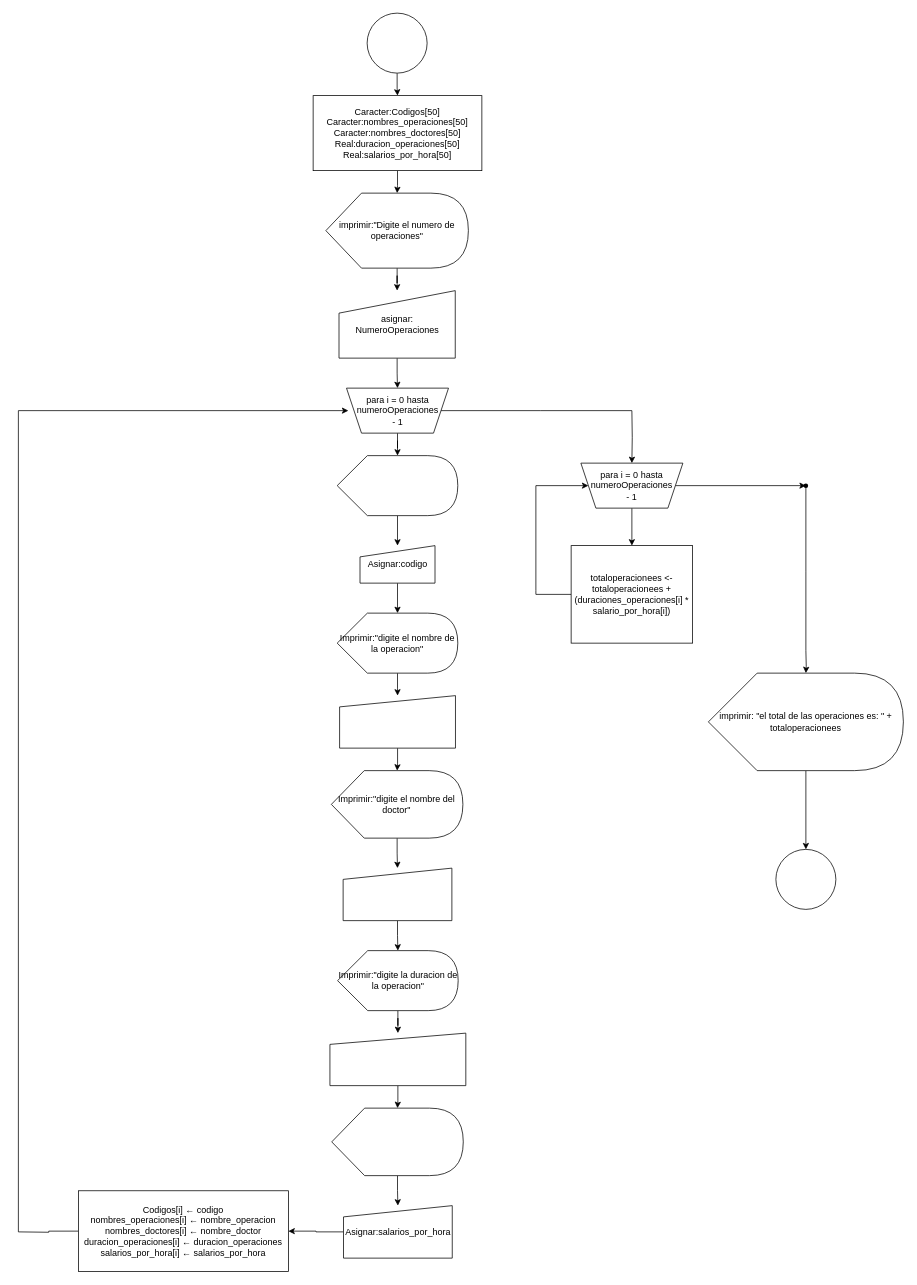
This 917x1285 diagram has some shape labels left out. Each missing label, with the box of its shape:
Asignar:duracion_operaciones: (329, 1032, 466, 1086)
Asignar:nombre_doctor: (342, 867, 452, 921)
Asignar:nombre_operacion: (339, 695, 455, 748)
FIN: (775, 849, 836, 909)
Imprimir:"digite el codigo de la operacion": (336, 455, 458, 516)
Imprimir:"digite el salario por hora del doctor": (331, 1107, 463, 1176)
inicio: (366, 12, 427, 73)
